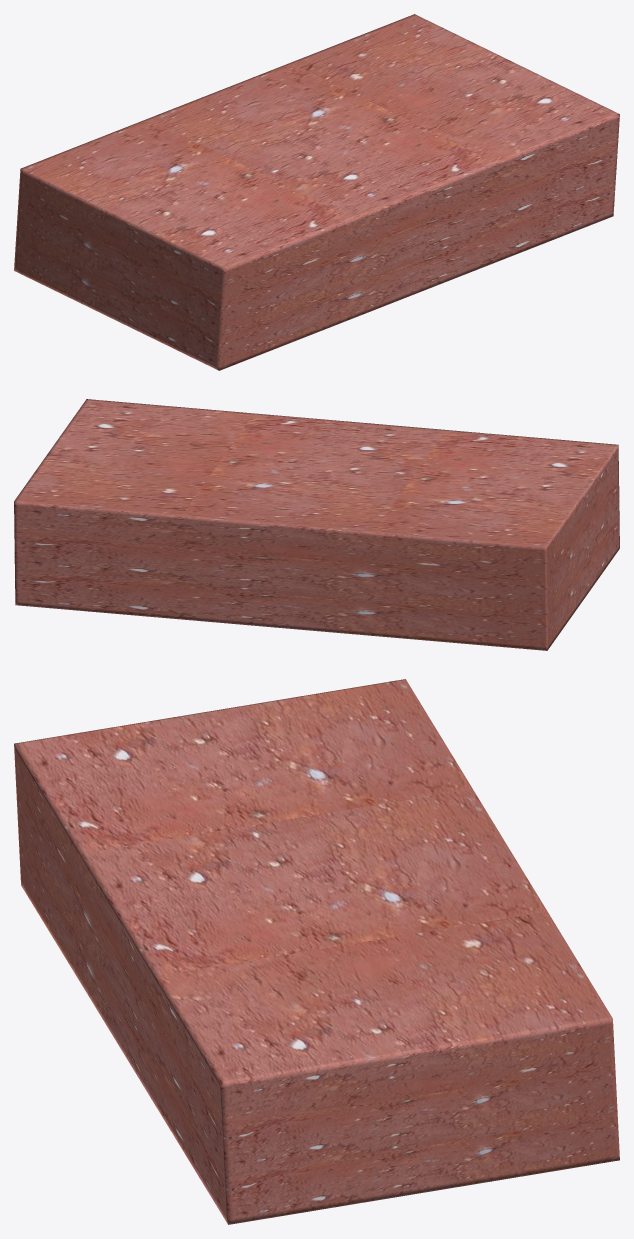
File: AF_M_Prop_07.FBX
3 views of the same model, one above another, from view 1: azimuth 30°, elevation 25°; view 2: azimuth 150°, elevation 25°; view 3: azimuth 270°, elevation 25° (orthographic). The views are drawn at different scales.
Visible parts, largest first — view 1: AF_M_Prop_07; view 2: AF_M_Prop_07; view 3: AF_M_Prop_07.
Boxes of the visible parts, <box> form: AF_M_Prop_07: <box>14,14,619,370</box>; AF_M_Prop_07: <box>14,399,619,650</box>; AF_M_Prop_07: <box>14,679,619,1224</box>.
Size of the model in its own units: 241 by 55.83 by 167.
1 material, 1 textured.
